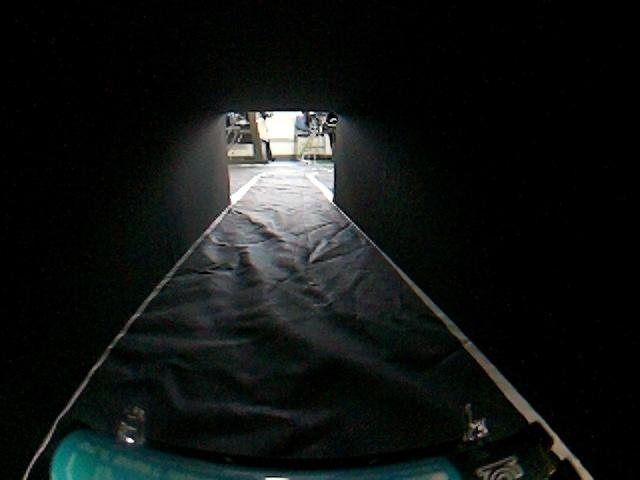go: (63, 209, 586, 472)
in_tunnel: (4, 1, 639, 477)
